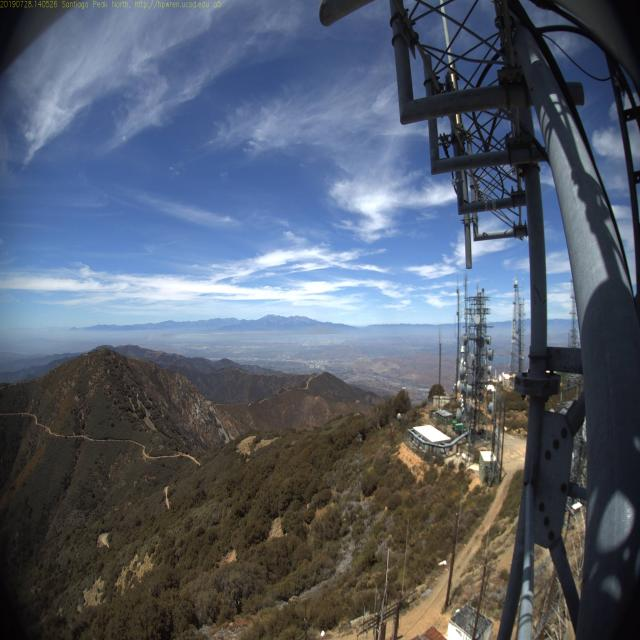smoke: (142, 326, 166, 348)
